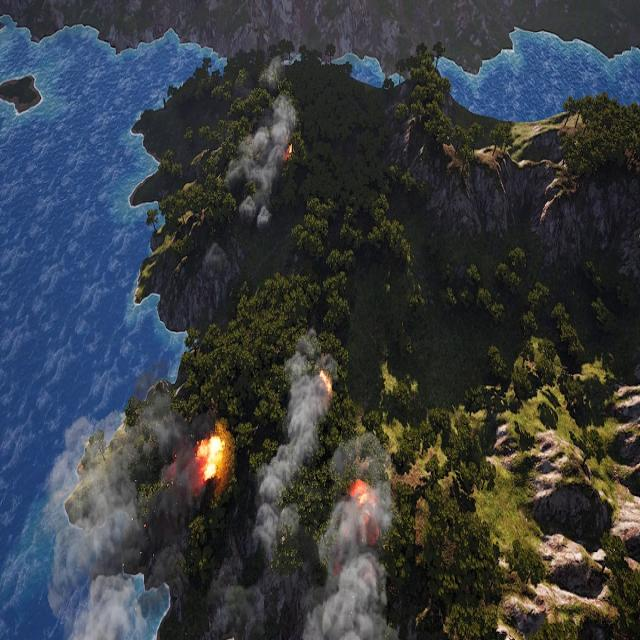fire: (348, 480, 379, 544), (196, 433, 226, 482), (319, 369, 333, 397)
smoke: (210, 326, 408, 640), (19, 392, 207, 638), (228, 52, 298, 236)
